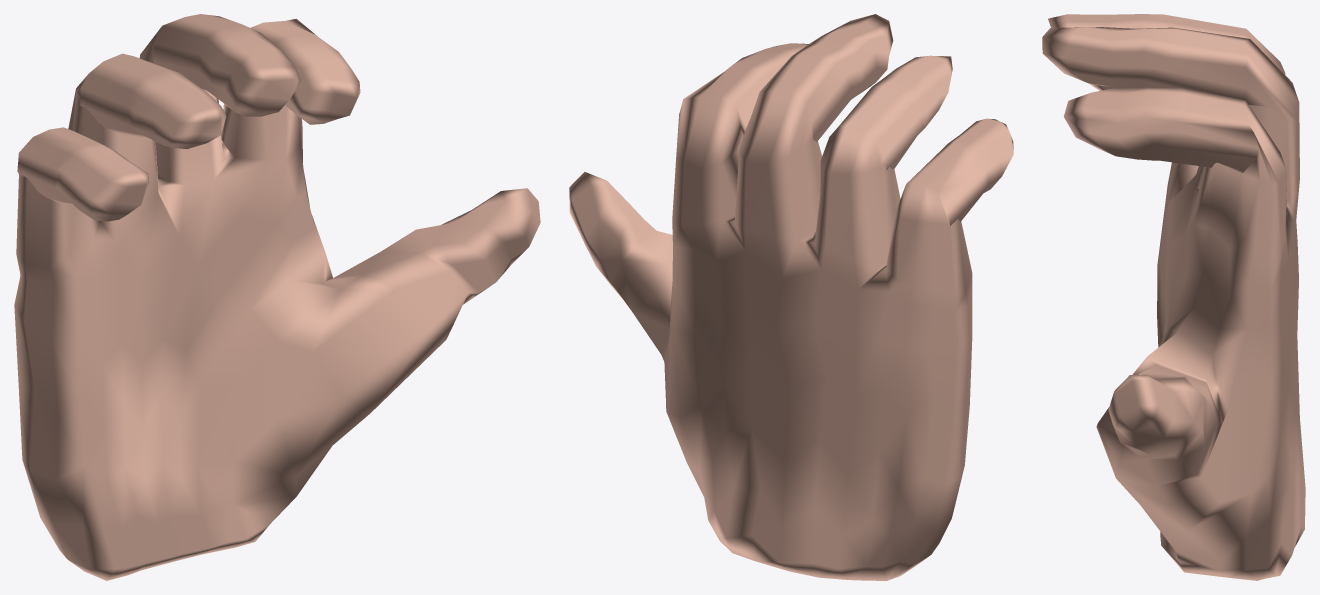
The model's file is CURVADOS_COM_POLEGAR.obj.
3 renders of one model, left to right at view 1: azimuth 30°, elevation 25°; view 2: azimuth 150°, elevation 25°; view 3: azimuth 270°, elevation 25°, orthographic. The views are drawn at different scales.
Visible parts, largest first — view 1: mao_dir:mao_dir; view 2: mao_dir:mao_dir; view 3: mao_dir:mao_dir.
Part boxes in pixels (left/top/right/bottom): mao_dir:mao_dir: left=14, top=14, right=540, bottom=580; mao_dir:mao_dir: left=569, top=14, right=1013, bottom=580; mao_dir:mao_dir: left=1042, top=14, right=1305, bottom=580.
Size of the model in its own units: 182 by 191 by 86.8.
